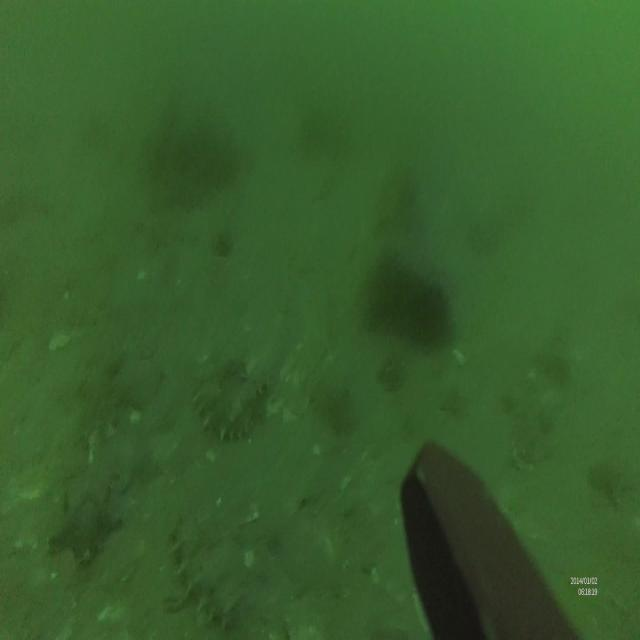echinus: (366, 249, 423, 335), (401, 276, 451, 348)
holothurian: (170, 515, 266, 638), (196, 358, 293, 438)
starfish: (50, 475, 123, 572)
